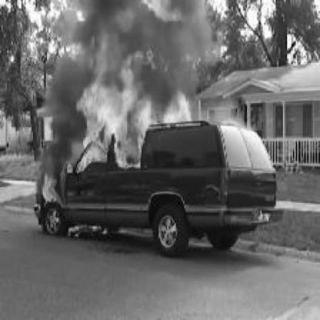Fire: (158, 83, 192, 125)
